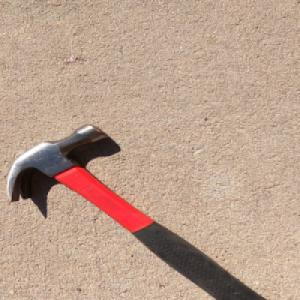Hammer: (3, 122, 270, 300)
